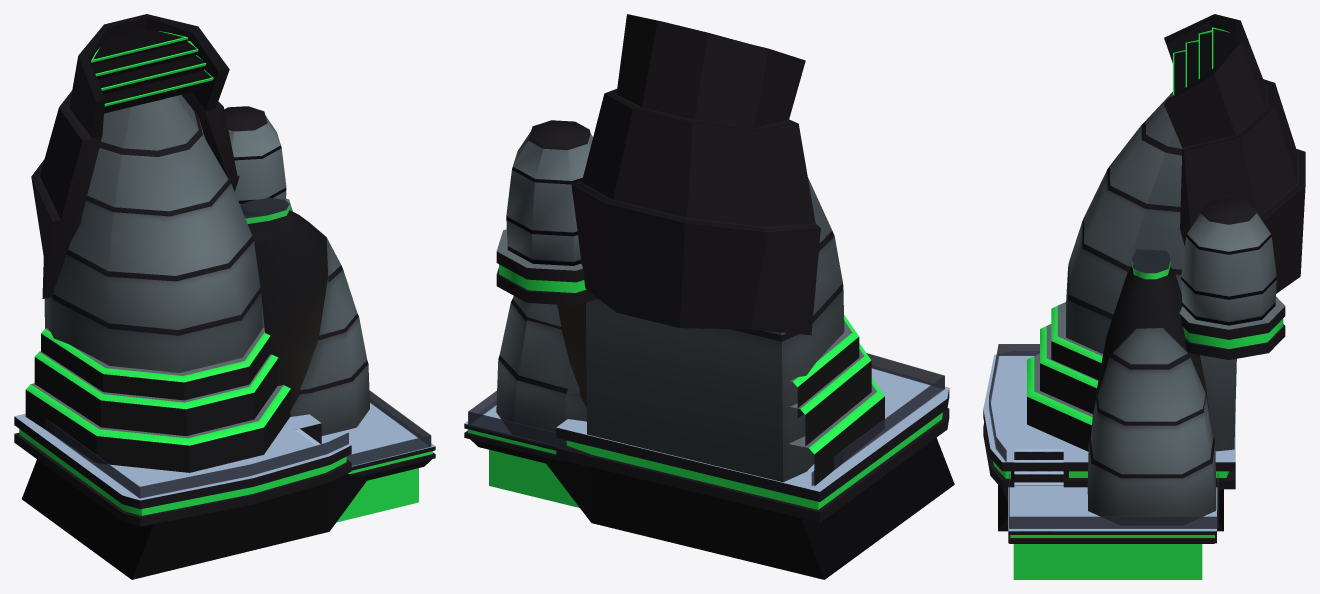
File: Tx_Building_Con_Blk_03.fbx
3 views of the same model, side by side, from view 1: azimuth 30°, elevation 25°; view 2: azimuth 150°, elevation 25°; view 3: azimuth 270°, elevation 25° (orthographic). The views are drawn at different scales.
Visible parts, largest first — view 1: Building_main, Building_side, Bottom_Wall, Roof_Middle, Base_Floor1, Pagoda_3, Pagoda_2, Roof_Side, Pagoda_1, Globe, glass_1, Base_Floor (+2 smaller); view 2: Roof_Middle, Building_main, Bottom_Wall, Base_Floor1, Globe, Building_side, Pagoda_3, Pagoda_2, Bottom_Wall_Window, glass_1, Pagoda_1, glass_2 (+1 smaller); view 3: Building_side, Roof_Middle, Building_main, Globe, Base_Floor1, Bottom_Wall_Window, Base_Floor, Pagoda_3, glass_2, Pagoda_2, Roof_Side, Pagoda_1 (+3 smaller).
Part boxes in pixels (left/top/right/bottom): Building_main: left=44, top=95, right=262, bottom=372; Building_side: left=240, top=197, right=369, bottom=435; Bottom_Wall: left=22, top=459, right=432, bottom=579; Roof_Middle: left=31, top=14, right=239, bottom=298; Base_Floor1: left=14, top=413, right=351, bottom=526; Pagoda_3: left=25, top=383, right=290, bottom=472; Pagoda_2: left=34, top=351, right=278, bottom=435; Roof_Side: left=90, top=29, right=213, bottom=113; Pagoda_1: left=41, top=328, right=270, bottom=400; Globe: left=224, top=106, right=292, bottom=211; glass_1: left=45, top=418, right=348, bottom=498; Base_Floor: left=321, top=402, right=435, bottom=475; Roof_Middle: left=571, top=14, right=820, bottom=335; Building_main: left=586, top=178, right=844, bottom=482; Bottom_Wall: left=470, top=438, right=954, bottom=579; Base_Floor1: left=556, top=368, right=949, bottom=522; Globe: left=496, top=120, right=597, bottom=305; Building_side: left=496, top=296, right=586, bottom=432; Pagoda_3: left=789, top=377, right=884, bottom=486; Pagoda_2: left=790, top=343, right=871, bottom=447; Bottom_Wall_Window: left=489, top=449, right=579, bottom=507; glass_1: left=811, top=353, right=944, bottom=485; Pagoda_1: left=790, top=315, right=859, bottom=418; glass_2: left=468, top=391, right=566, bottom=447; Building_side: left=1087, top=249, right=1216, bottom=516; Roof_Middle: left=1164, top=14, right=1305, bottom=293; Building_main: left=1066, top=92, right=1236, bottom=451; Globe: left=1179, top=198, right=1285, bottom=359; Base_Floor1: left=983, top=354, right=1235, bottom=489; Bottom_Wall_Window: left=1013, top=544, right=1202, bottom=579; Base_Floor: left=1008, top=485, right=1217, bottom=543; Pagoda_3: left=1027, top=353, right=1092, bottom=451; glass_2: left=1009, top=473, right=1218, bottom=529; Pagoda_2: left=1040, top=324, right=1098, bottom=413; Roof_Side: left=1173, top=27, right=1235, bottom=95; Pagoda_1: left=1051, top=302, right=1102, bottom=379.
Size of the model in its own units: 56.37 by 77.49 by 49.48.
